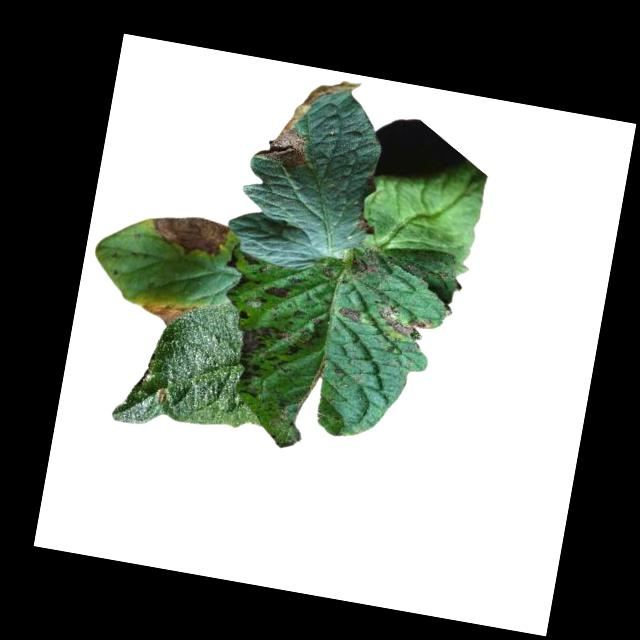Early_blight: (260, 65, 364, 180), (232, 319, 305, 402), (149, 211, 232, 263), (374, 301, 432, 346), (139, 296, 198, 332), (346, 247, 381, 285), (226, 241, 262, 275), (351, 216, 376, 237), (265, 283, 292, 300), (337, 306, 360, 322), (152, 385, 170, 405), (235, 307, 250, 321)
